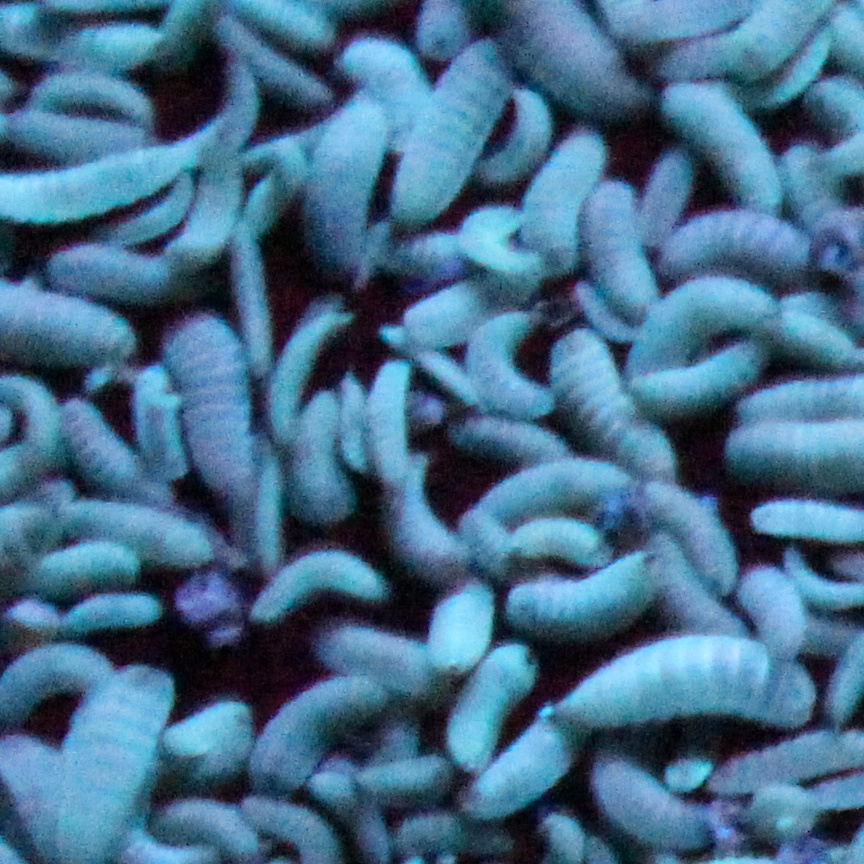larve: (2, 113, 234, 223), (565, 642, 820, 729), (395, 37, 511, 223), (549, 337, 684, 482), (491, 1, 647, 109), (158, 326, 260, 481), (661, 82, 781, 213), (251, 674, 385, 788), (306, 106, 396, 266), (633, 280, 782, 375), (519, 132, 609, 282), (2, 280, 137, 378), (461, 457, 643, 527), (441, 644, 533, 782), (506, 556, 663, 636), (340, 26, 443, 146), (51, 404, 172, 506), (643, 539, 749, 650), (456, 715, 570, 815), (586, 762, 724, 840), (661, 8, 820, 75), (47, 239, 201, 308), (578, 177, 656, 313), (254, 546, 385, 626), (639, 484, 734, 594), (313, 613, 440, 692), (213, 25, 332, 108), (640, 333, 754, 418), (268, 318, 353, 432), (67, 497, 213, 563), (401, 275, 540, 342), (1, 637, 122, 713), (664, 216, 818, 274), (167, 144, 236, 266), (99, 161, 194, 247), (472, 309, 550, 412), (280, 387, 336, 529), (127, 361, 196, 471), (6, 106, 143, 160), (25, 64, 163, 116), (477, 84, 546, 187), (23, 546, 139, 602), (453, 416, 572, 470), (225, 236, 274, 367), (502, 515, 615, 571), (743, 568, 805, 657), (56, 592, 168, 639), (636, 149, 699, 232), (364, 364, 408, 481), (40, 25, 167, 63), (454, 215, 534, 275), (356, 751, 458, 795), (394, 818, 519, 853), (558, 285, 637, 340), (212, 53, 253, 151), (332, 370, 356, 471)
